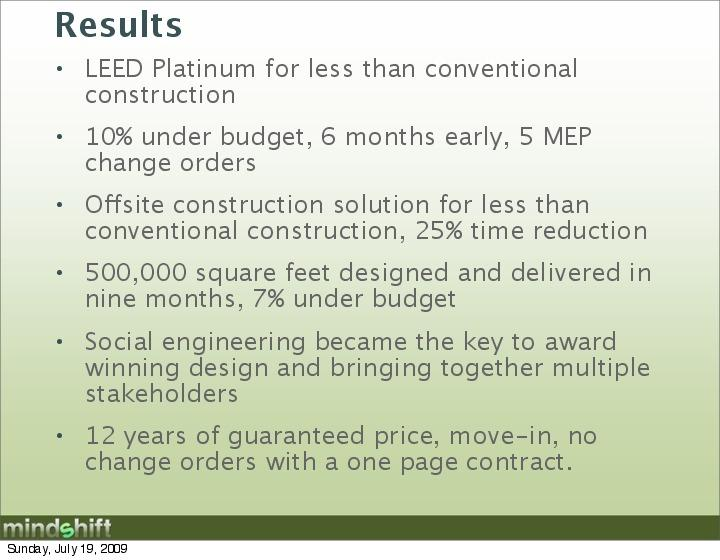paragraph: (38, 51, 690, 494)
title: (53, 7, 186, 46)
